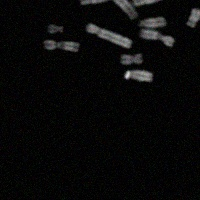chromosome: (86, 23, 132, 48), (80, 0, 137, 19), (140, 29, 174, 46), (43, 40, 78, 52), (132, 0, 195, 6), (124, 70, 152, 82), (139, 17, 166, 28), (186, 8, 200, 27), (121, 53, 143, 65), (47, 25, 62, 34)
